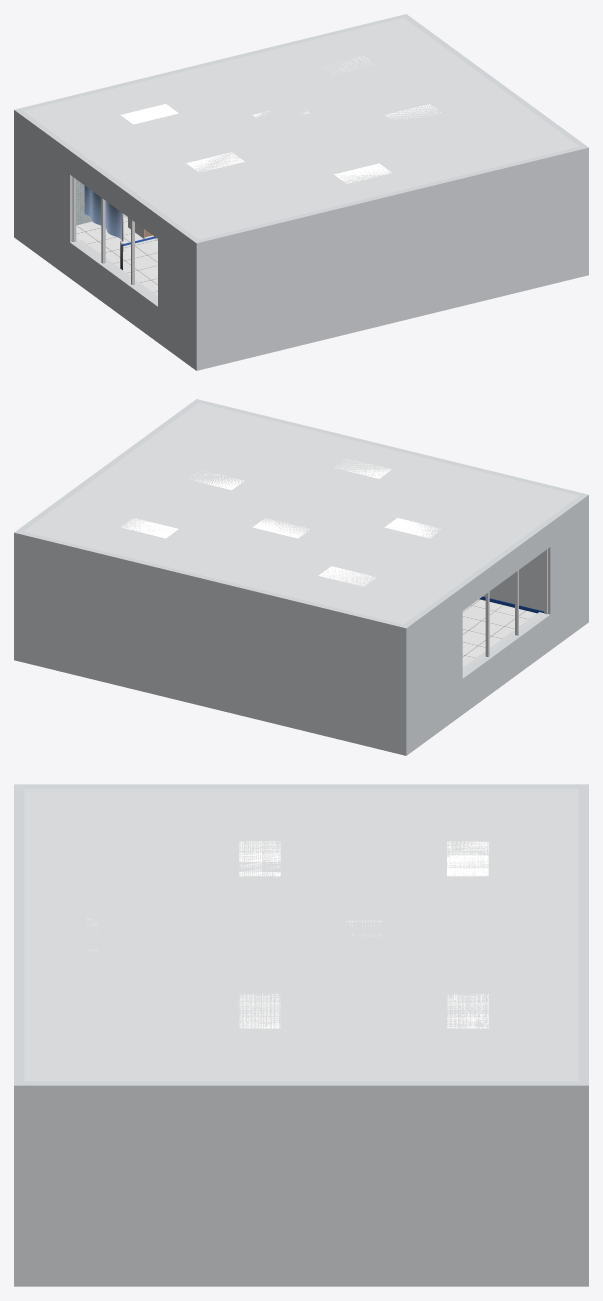
The model's file is clinic_booth.glb.
3 views of the same model, one above another, from view 1: azimuth 30°, elevation 25°; view 2: azimuth 150°, elevation 25°; view 3: azimuth 270°, elevation 25° (orthographic). The views are drawn at different scales.
Visible parts, largest first — view 1: Clinique; view 2: Clinique; view 3: Clinique.
Part boxes in pixels (x1,y1,x2,y2): Clinique: [14, 14, 588, 370]; Clinique: [14, 399, 588, 755]; Clinique: [14, 784, 588, 1286].
Size of the model in its own units: 10.3 by 3.2 by 8.3.
20 materials, 10 textured.
